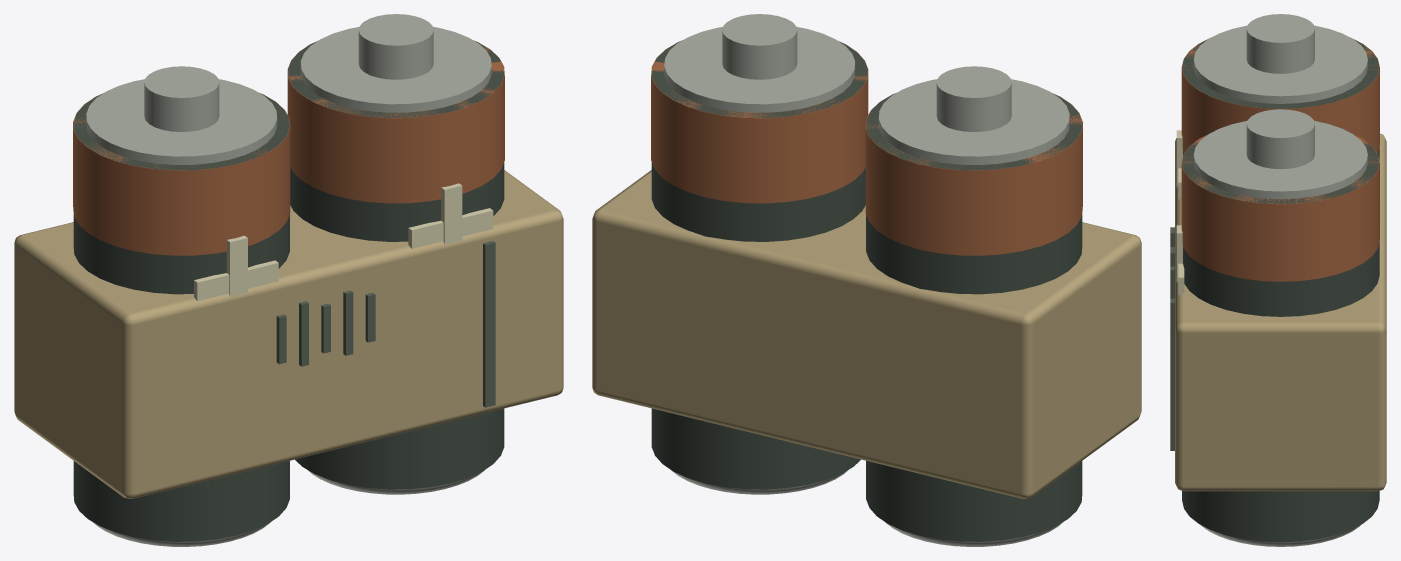
Rendered from sealed-cells-pool.glb.
The picture shows the model from 3 angles, left to right: view 1: azimuth 30°, elevation 25°; view 2: azimuth 150°, elevation 25°; view 3: azimuth 270°, elevation 25°; orthographic projection. The views are drawn at different scales.
Parts seen in each view (by area): view 1: sealed-cells-pool; view 2: sealed-cells-pool; view 3: sealed-cells-pool.
Boxes of the visible parts, x1=… form: sealed-cells-pool: x1=14, y1=14, x2=563, y2=546; sealed-cells-pool: x1=592, y1=14, x2=1141, y2=546; sealed-cells-pool: x1=1170, y1=14, x2=1386, y2=546.
Bounding box in the file's own units: 0.0596 × 0.0548 × 0.0278.
